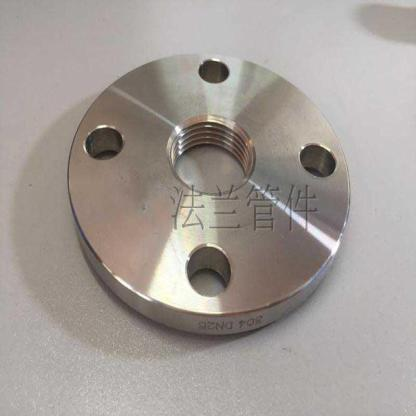FOD: (59, 45, 359, 338)
